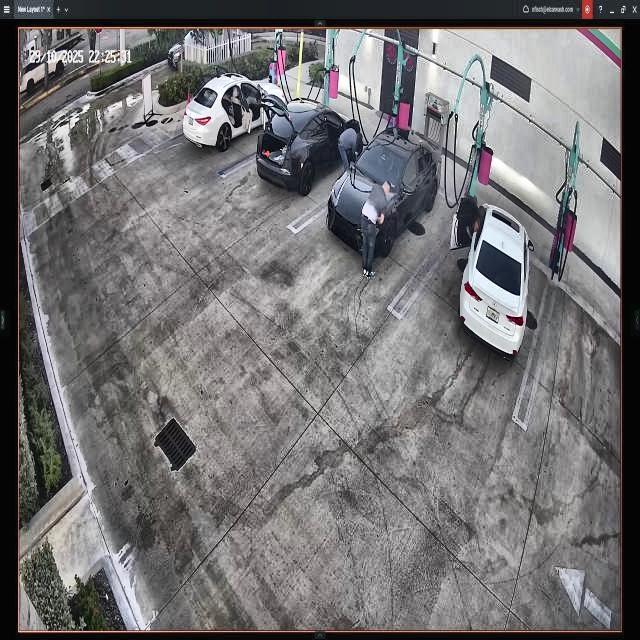Car: (328, 132, 441, 251), (453, 198, 534, 361), (256, 94, 362, 203), (184, 73, 289, 162)
